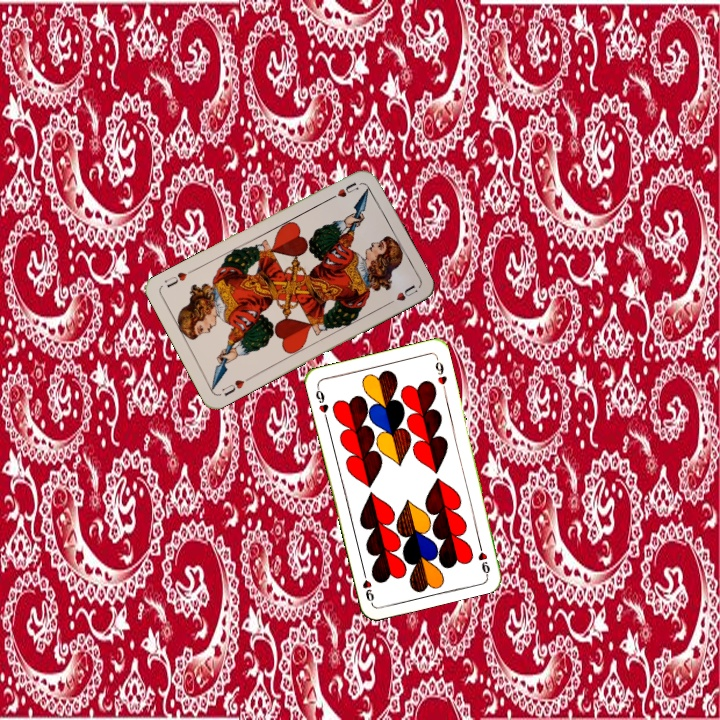H9: (311, 382, 331, 422), (474, 537, 493, 577)
HU: (218, 373, 253, 399), (333, 178, 361, 200)
